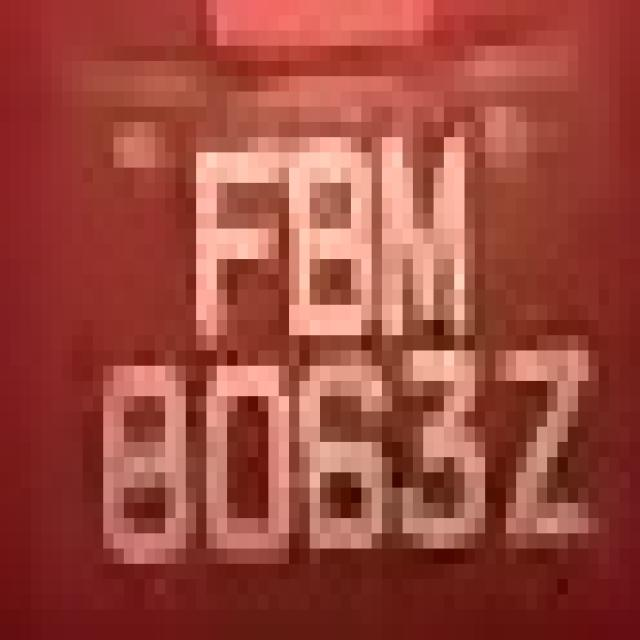0: (206, 320, 300, 594)
3: (362, 320, 496, 579)
6: (279, 305, 392, 594)
8: (82, 305, 206, 564)
B: (278, 107, 372, 381)
F: (176, 107, 289, 366)
M: (361, 122, 485, 366)
Z: (485, 320, 609, 579)
